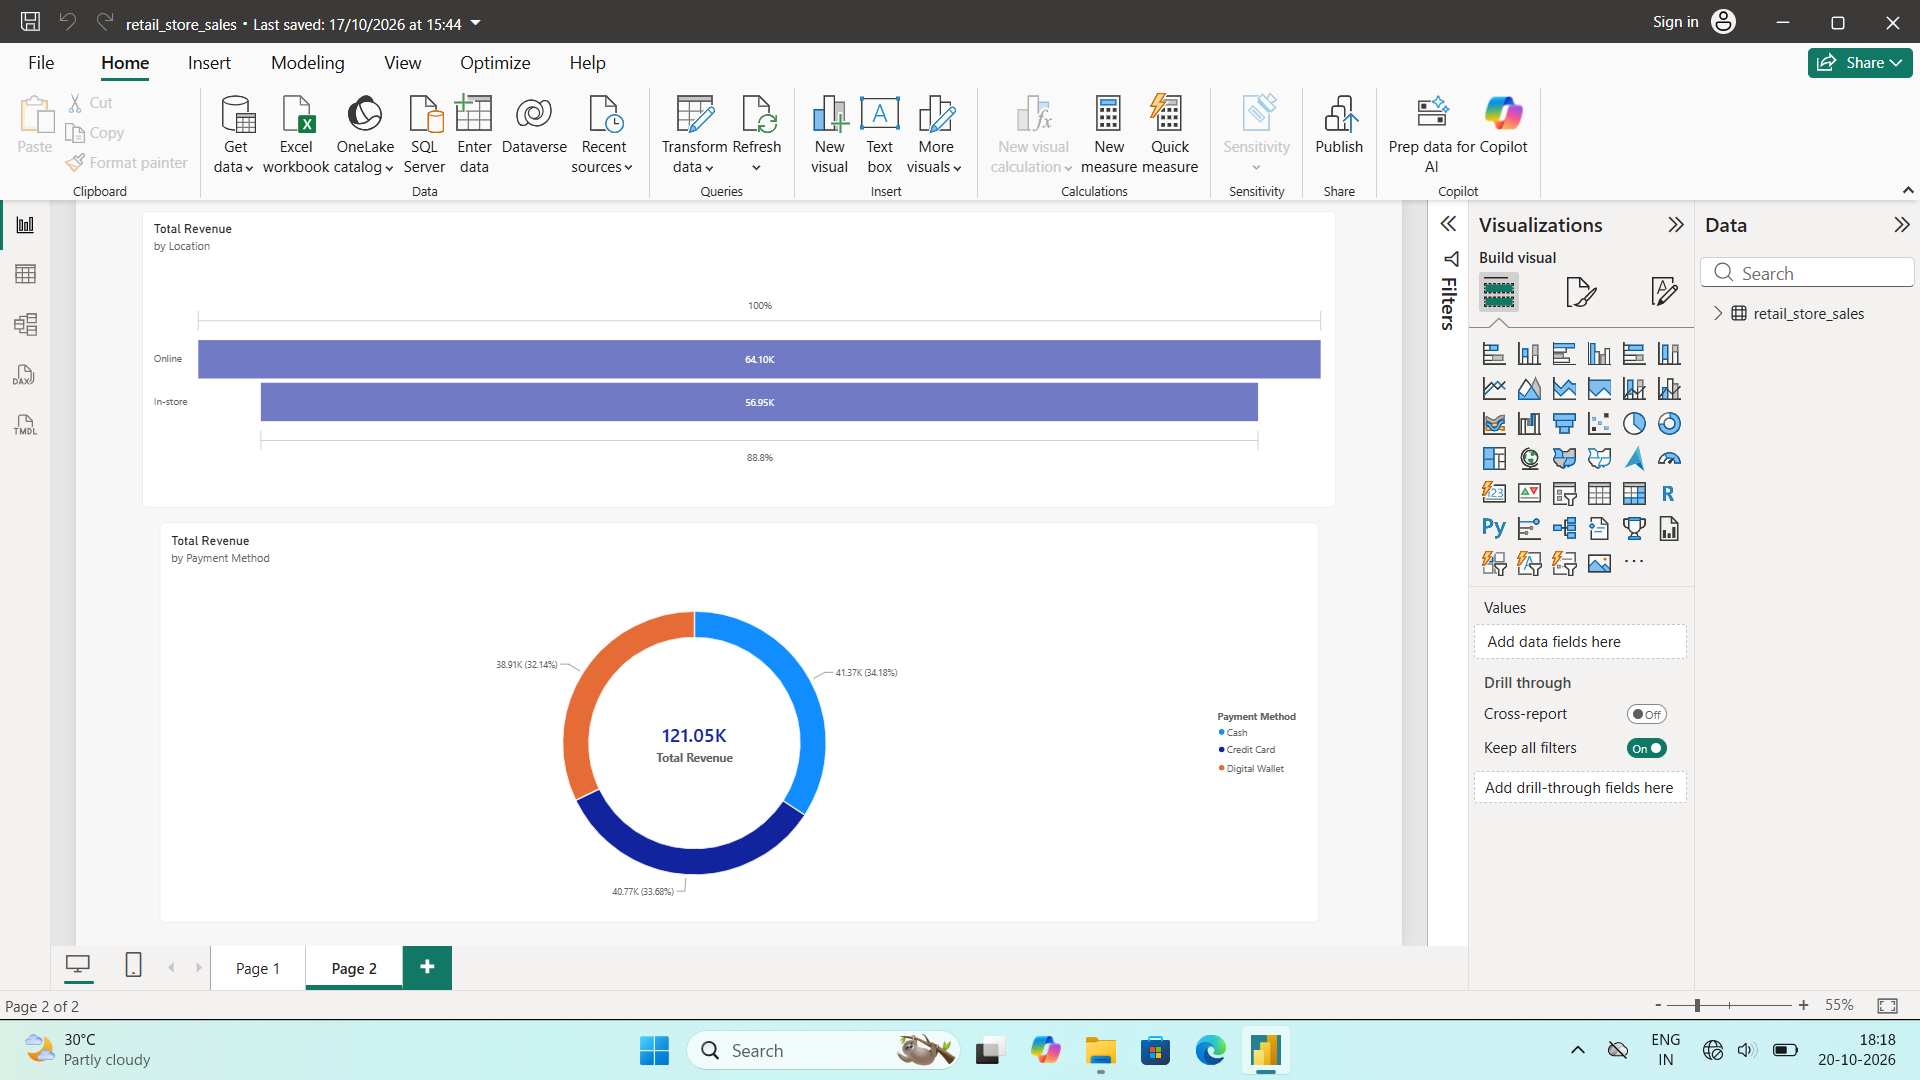

What the dashboard file says about the page in this screenshot:
{"tool":"powerbi","page":{"name":"Page 2","canvas":[1920,1080],"ordinal":1},"visuals":[{"type":"donutChart","fields":{"Category":["retail_store_sales.Payment Method"],"Y":["retail_store_sales.Total Revenue"]},"box":[121.2,466.9,1677.6,579.1],"z":0},{"type":"funnel","fields":{"Category":["retail_store_sales.Location"],"Y":["retail_store_sales.Total Revenue"]},"box":[95.9,16.3,1728.2,428.9],"z":1}]}

Visuals, with their boxes on the page's 1920x1080 design canvas (x1, y1, x2, y2). These are canvas units, not pixel positions in the 1920x1080 screenshot, which may show the page scaled, cropped or inside an application window:
donutChart - retail_store_sales.Payment Method x retail_store_sales.Total Revenue: <box>121,467,1799,1046</box>
funnel - retail_store_sales.Location x retail_store_sales.Total Revenue: <box>96,16,1824,445</box>
